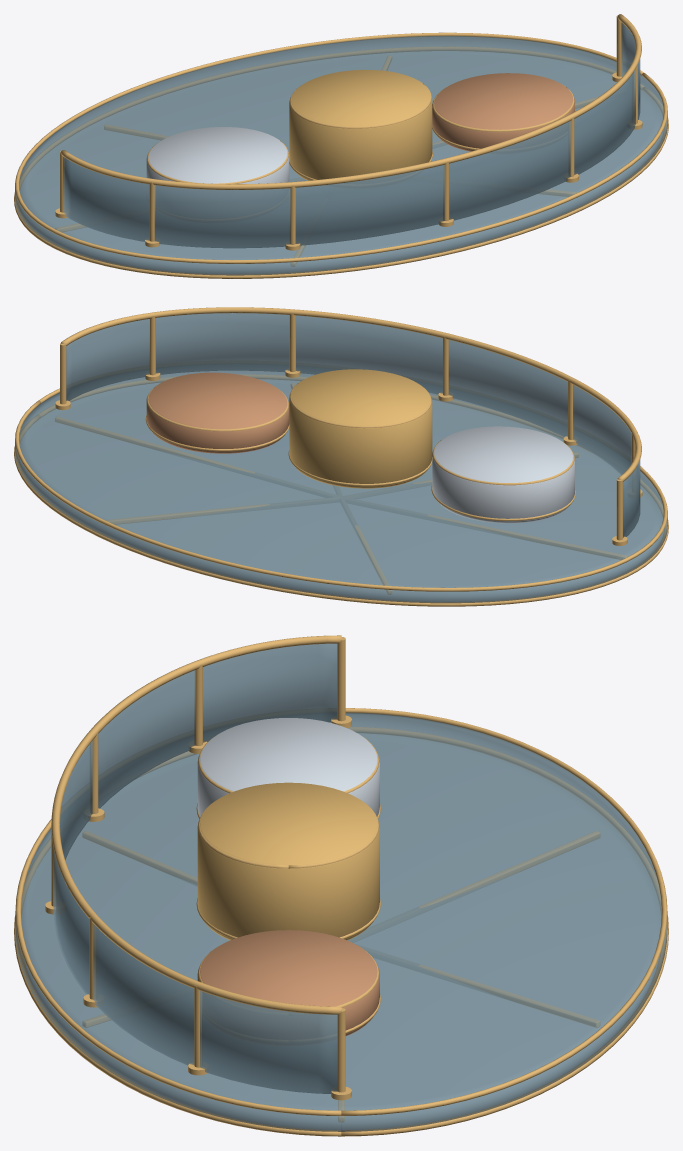
File: menu-results-stage.glb
The picture shows the model from 3 angles, top to bottom: view 1: azimuth 30°, elevation 25°; view 2: azimuth 150°, elevation 25°; view 3: azimuth 270°, elevation 25°; orthographic projection. The views are drawn at different scales.
Parts seen in each view (by area): view 1: balcony_frame, podium_high, podium_low, podium_mid; view 2: balcony_frame, podium_high, podium_mid, podium_low; view 3: balcony_frame, podium_high, podium_mid, podium_low.
Part boxes in pixels (x1,y1,x2,y2): balcony_frame: (14, 14, 668, 278); podium_high: (289, 69, 432, 180); podium_low: (432, 73, 574, 151); podium_mid: (146, 127, 289, 184); balcony_frame: (14, 307, 668, 606); podium_high: (288, 369, 432, 488); podium_mid: (431, 426, 575, 523); podium_low: (145, 372, 289, 453); balcony_frame: (14, 635, 668, 1136); podium_high: (196, 782, 380, 940); podium_mid: (196, 718, 380, 818); podium_low: (197, 930, 380, 1035).
Size of the model in its own units: 10.03 by 1.44 by 6.83.
